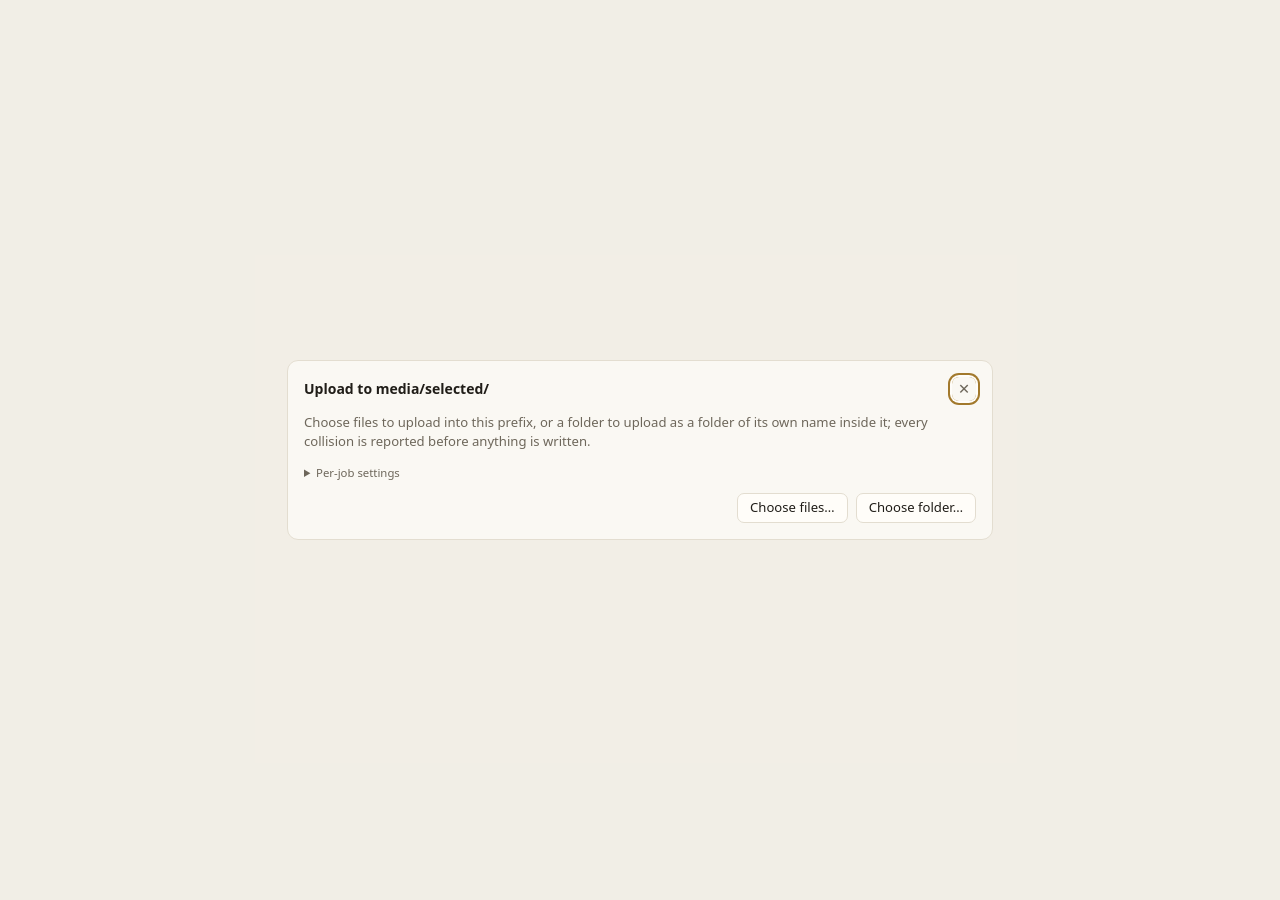
Test: upload preflight binding › ignores an old successful preflight after the replacement report rejects
Click the button "Choose files…" at {"x": 792, "y": 508}, box [737,493,848,523]
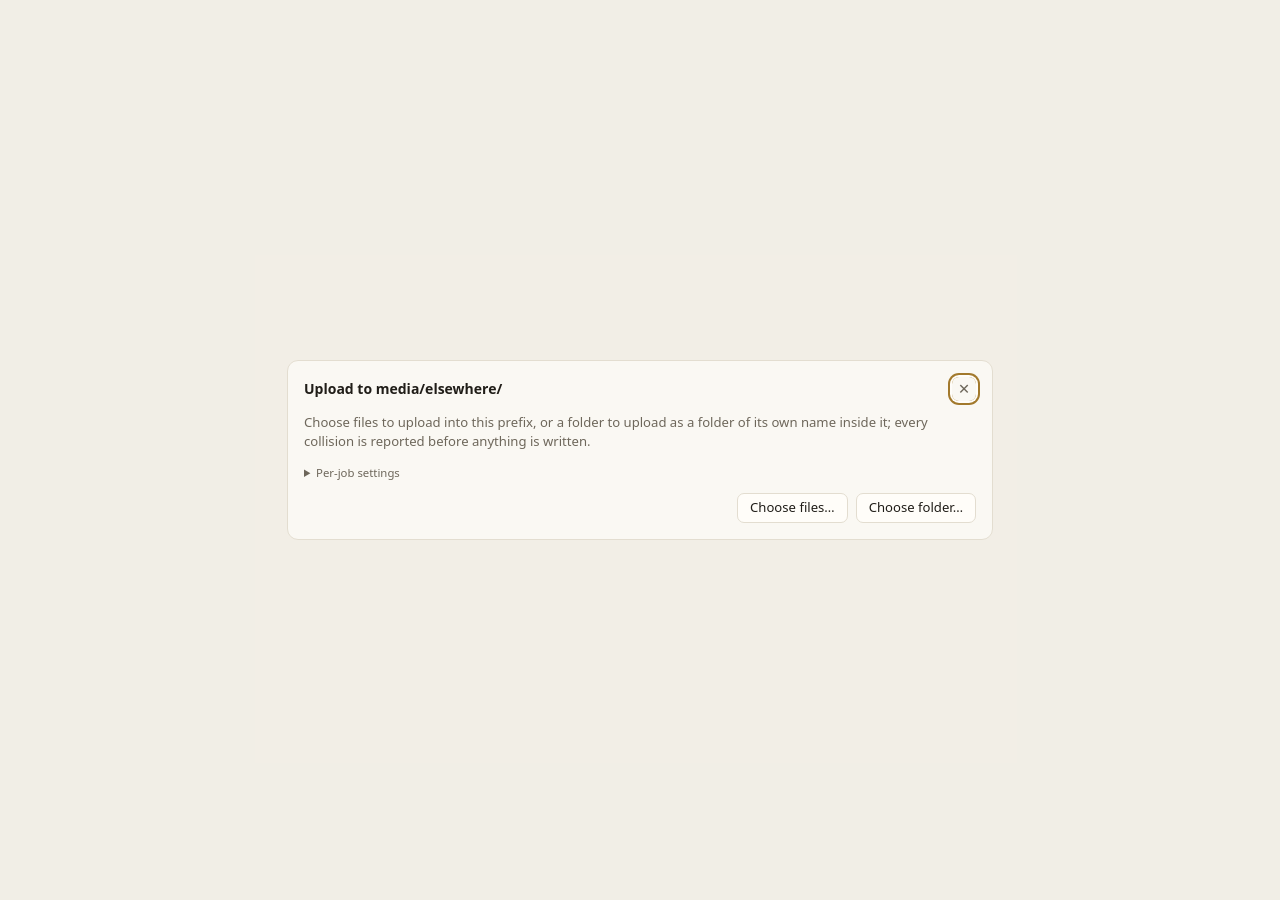
Click the button "Choose files…" at {"x": 792, "y": 508}, box [737,493,848,523]
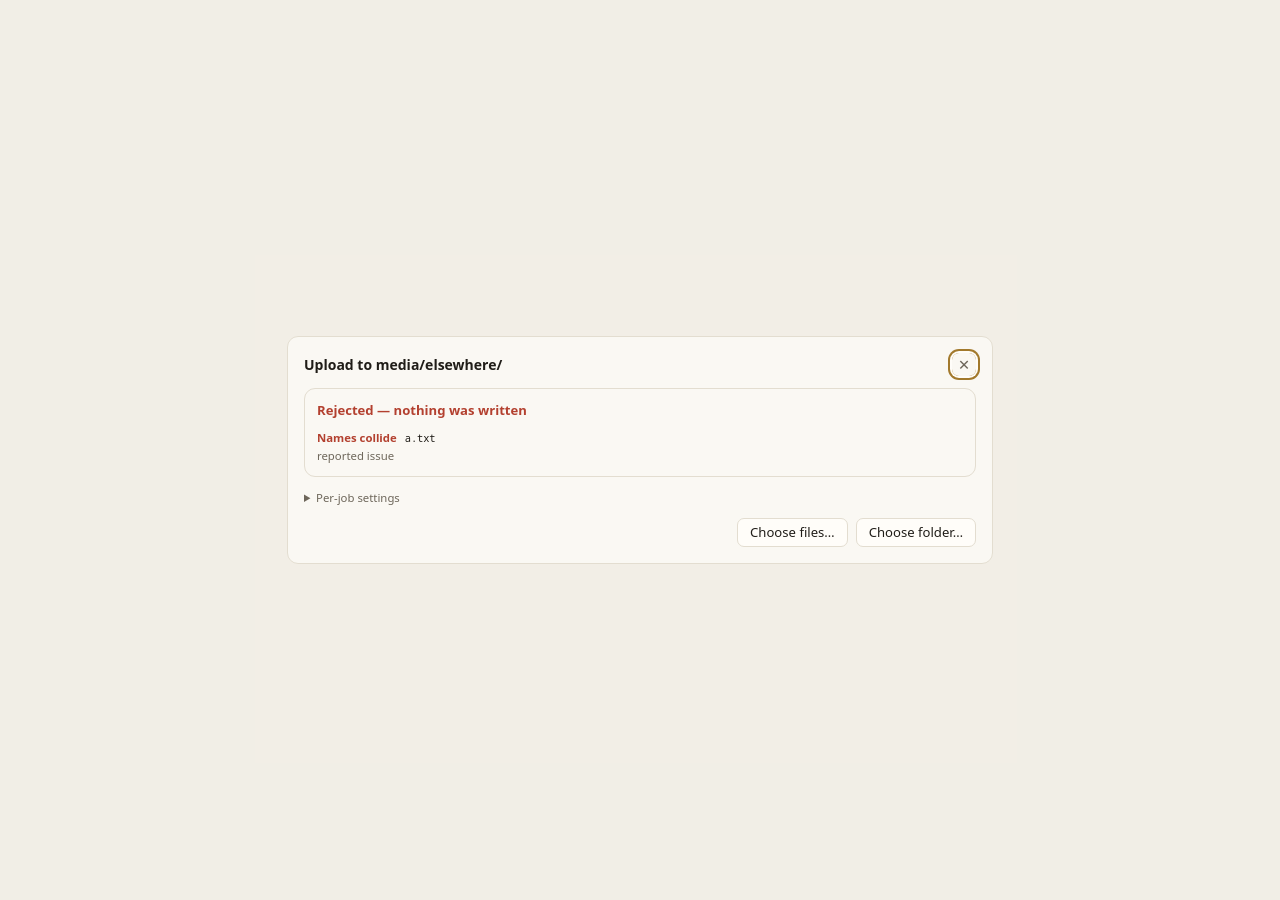
Now the text "Rejected" is shown, box [317,401,527,419]
